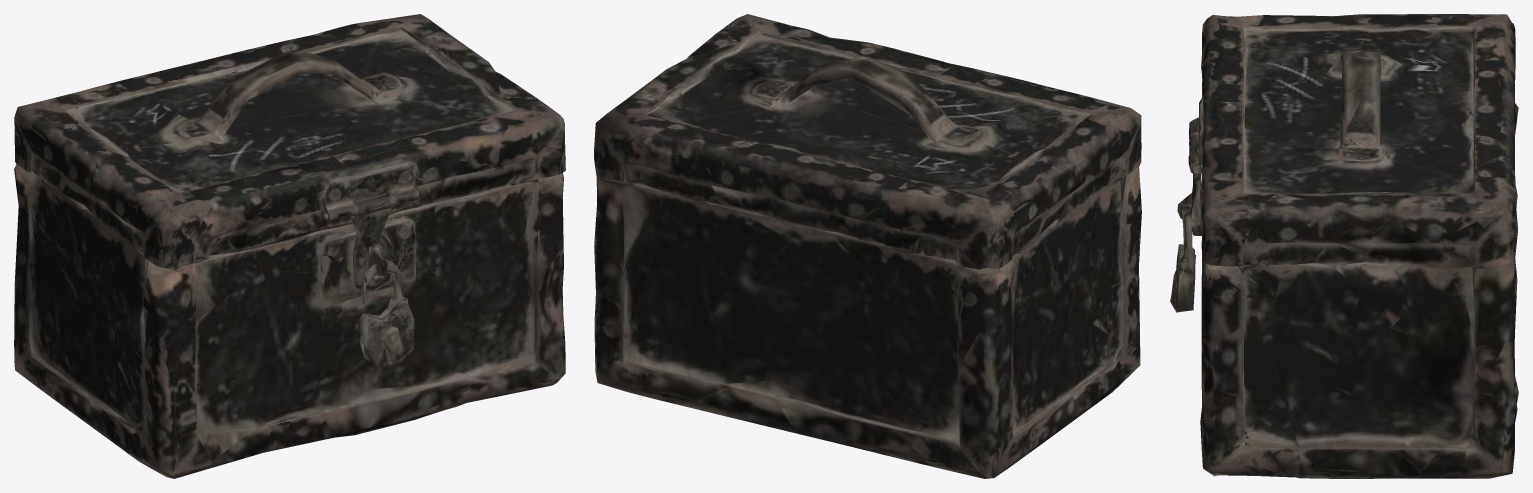
File: drop_box.e72fc46b.glb
3 views of the same model, side by side, from view 1: azimuth 30°, elevation 25°; view 2: azimuth 150°, elevation 25°; view 3: azimuth 270°, elevation 25° (orthographic).
Parts seen in each view (by area): view 1: drop_box; view 2: drop_box; view 3: drop_box.
Part boxes in pixels (bbox=[...]): drop_box: bbox=[14, 14, 565, 478]; drop_box: bbox=[594, 14, 1141, 478]; drop_box: bbox=[1170, 14, 1518, 478].
Size of the model in its own units: 0.4928 by 0.3691 by 0.3592.
1 material, 1 textured.
